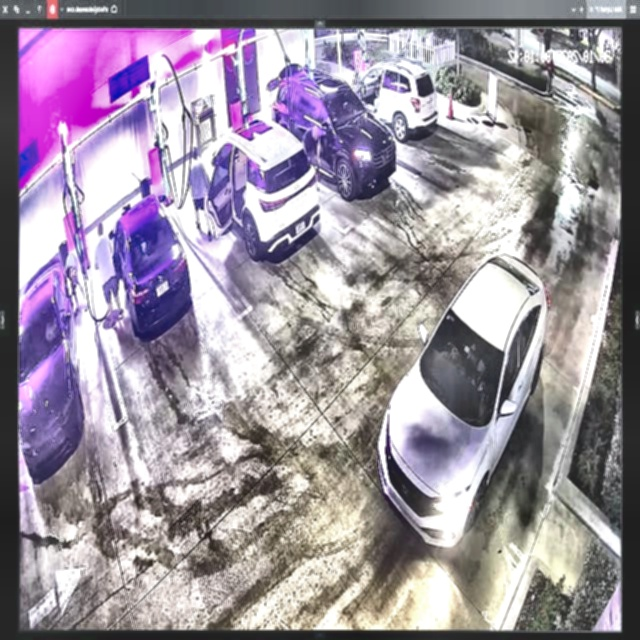Car: (375, 253, 551, 551), (196, 120, 318, 260), (272, 65, 398, 194), (111, 197, 188, 335)
